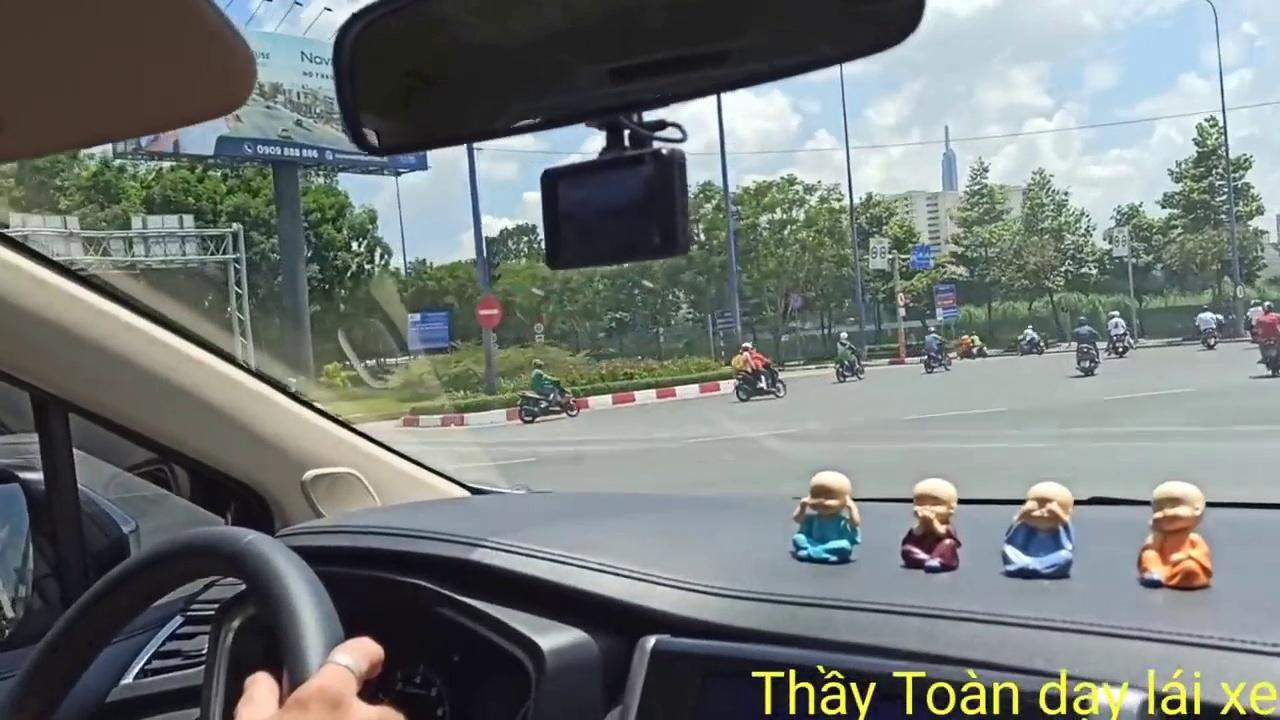Cấm cac phương tiện hoạt động trong khung giờ cố định: (867, 235, 890, 271)
Cấm đi ngược chiều: (472, 291, 504, 332)
Khác: (406, 309, 452, 352), (932, 281, 962, 325)
Làn đường cho từng xe: (908, 240, 938, 270)
